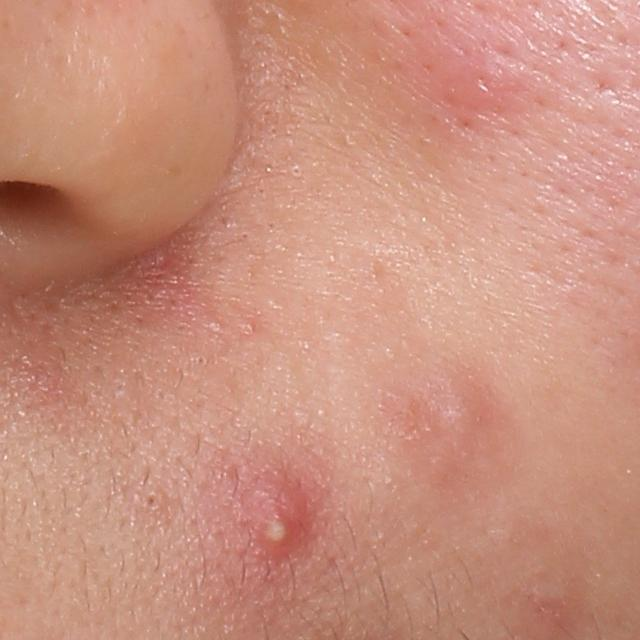comedo: (141, 491, 163, 510), (195, 353, 209, 367)
pustule: (243, 476, 316, 562)
